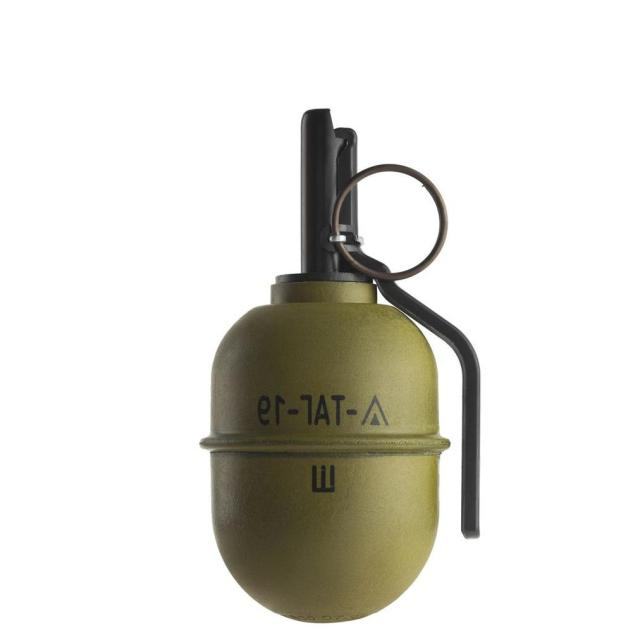grenade: (203, 109, 482, 624)
